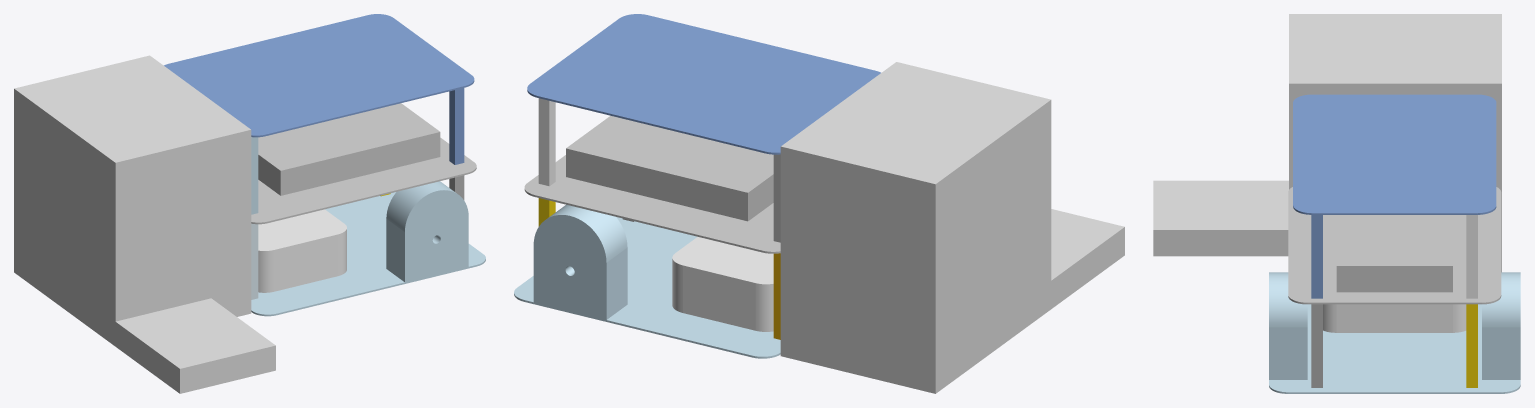
Rendered from base_link_trailer_join.dae.
3 views of the same model, side by side, from view 1: azimuth 30°, elevation 25°; view 2: azimuth 150°, elevation 25°; view 3: azimuth 270°, elevation 25° (orthographic). The views are drawn at different scales.
Parts seen in each view (by area): view 1: trailer, base_link; view 2: trailer, base_link; view 3: base_link, trailer.
Boxes of the visible parts, bbox=[...] form: trailer: bbox=[14, 55, 275, 393]; base_link: bbox=[164, 14, 485, 316]; trailer: bbox=[780, 62, 1124, 393]; base_link: bbox=[514, 14, 880, 358]; base_link: bbox=[1269, 94, 1520, 393]; trailer: bbox=[1153, 14, 1501, 272].
Bounding box in the file's own units: 0.2301 × 0.1896 × 0.1212.
